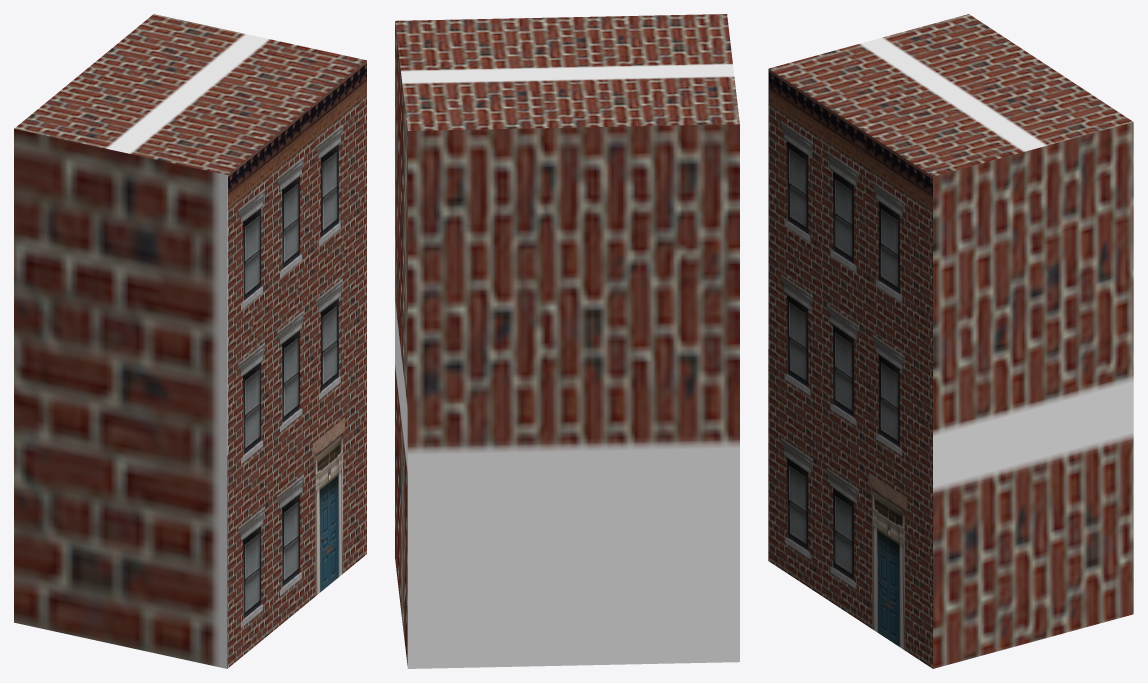
The model's file is building7fbx.fbx.
3 views of the same model, side by side, from view 1: azimuth 30°, elevation 25°; view 2: azimuth 150°, elevation 25°; view 3: azimuth 270°, elevation 25° (orthographic). The views are drawn at different scales.
Visible parts, largest first — view 1: Cube.005; view 2: Cube.005; view 3: Cube.005.
Boxes of the visible parts, box(x1,y1,x2,y2) form: Cube.005: box(14, 14, 366, 668); Cube.005: box(395, 14, 739, 668); Cube.005: box(768, 14, 1133, 668).
Size of the model in its own units: 776 by 1095 by 737.
